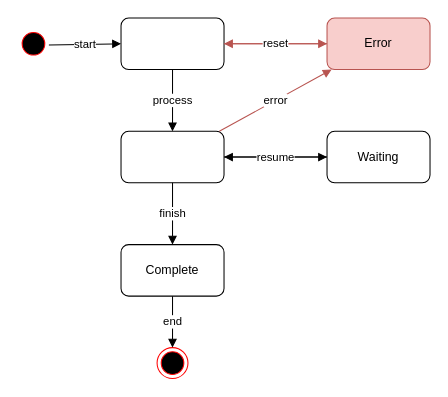
Image size: 448x397. Some labels were removed from this diagram. The centre of each missing label's shape, as x and y in pixels:
Idle: point (172, 43)
Processing: point (172, 156)
